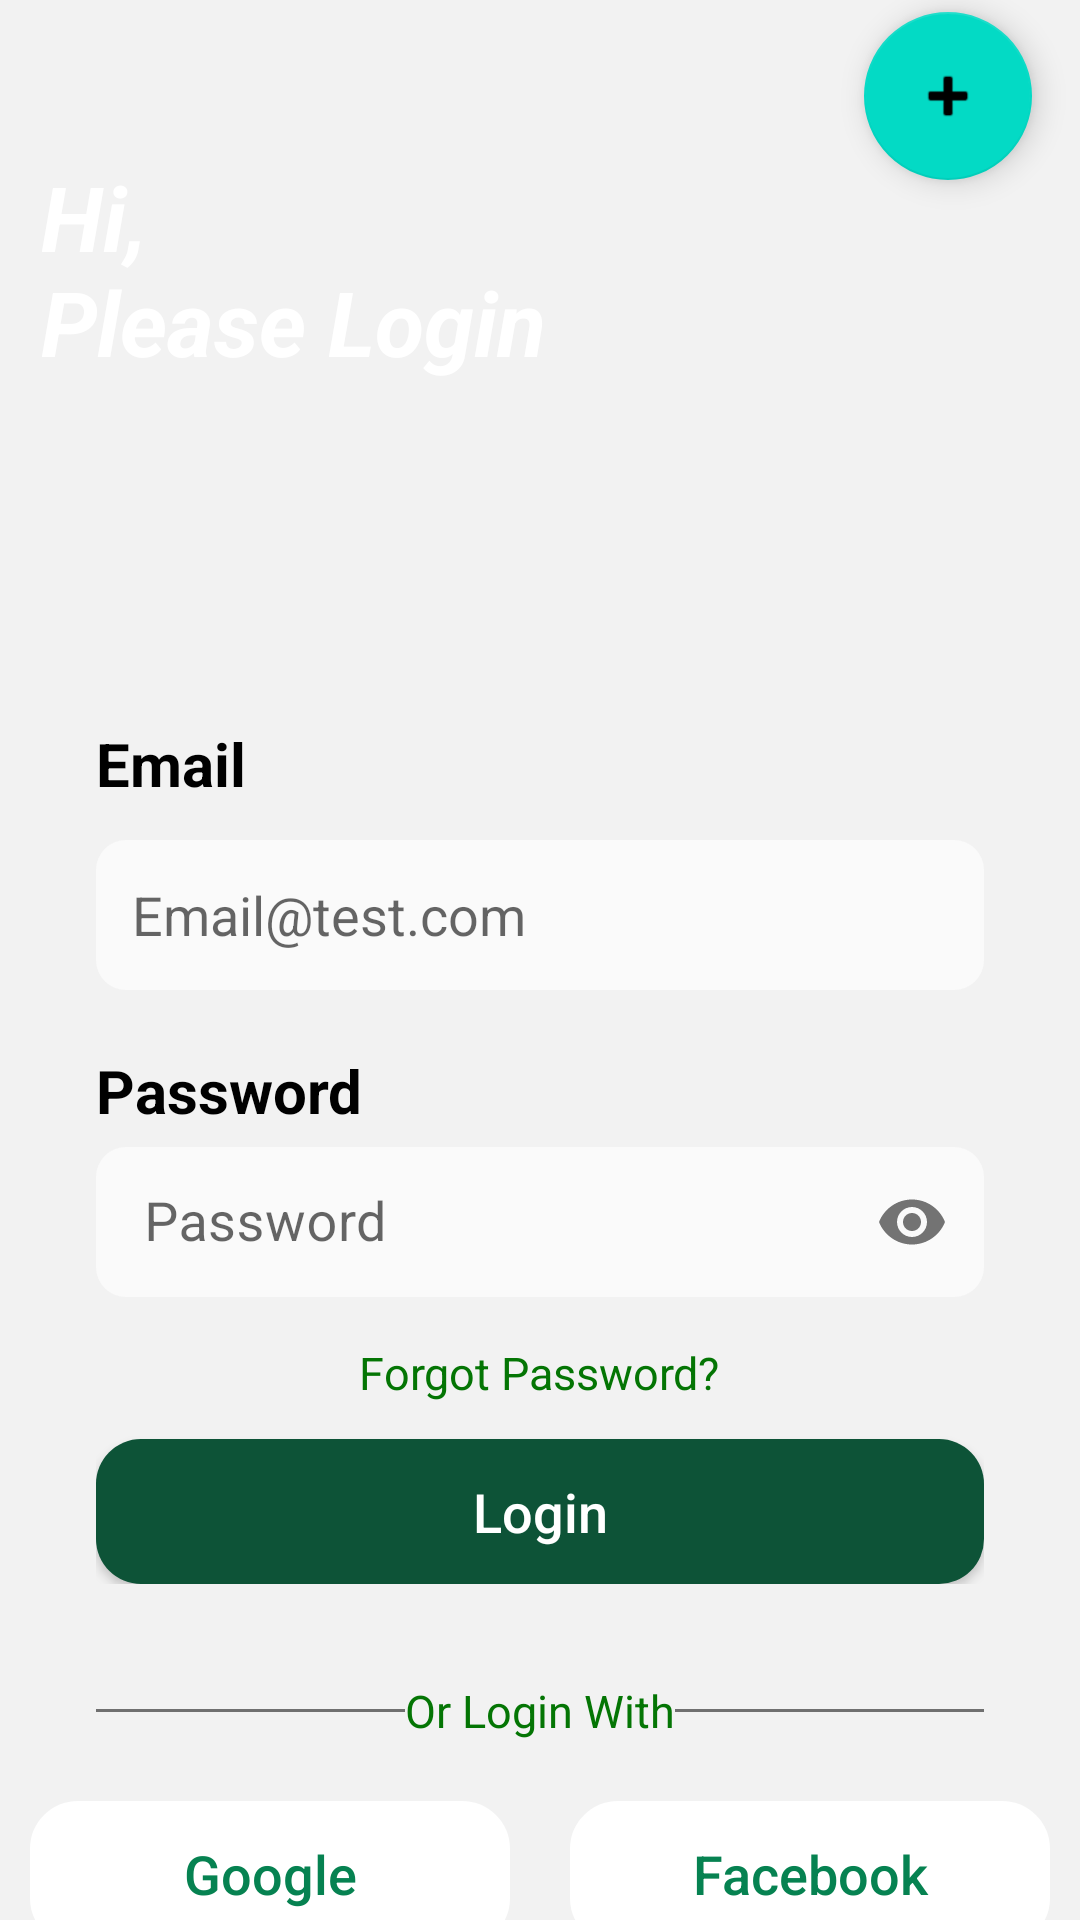

Icons on this 1080 x 1920 Android screen, each with the point to tap as [x,y]:
add: [948,96]
